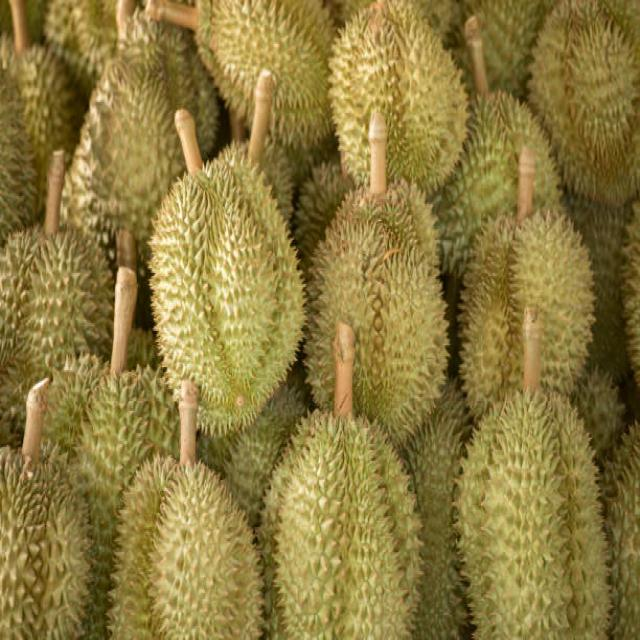mature: (150, 144, 304, 436), (456, 392, 610, 638), (259, 411, 420, 639), (306, 184, 448, 442), (460, 210, 594, 417), (109, 456, 261, 638), (329, 0, 468, 192), (0, 229, 112, 445), (434, 92, 559, 277), (199, 1, 332, 147)
